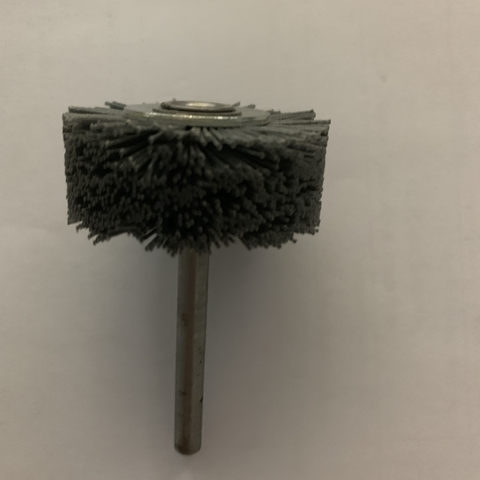Wheel Brush: (57, 81, 353, 460), (66, 98, 331, 463), (62, 114, 312, 412), (97, 88, 303, 395)
